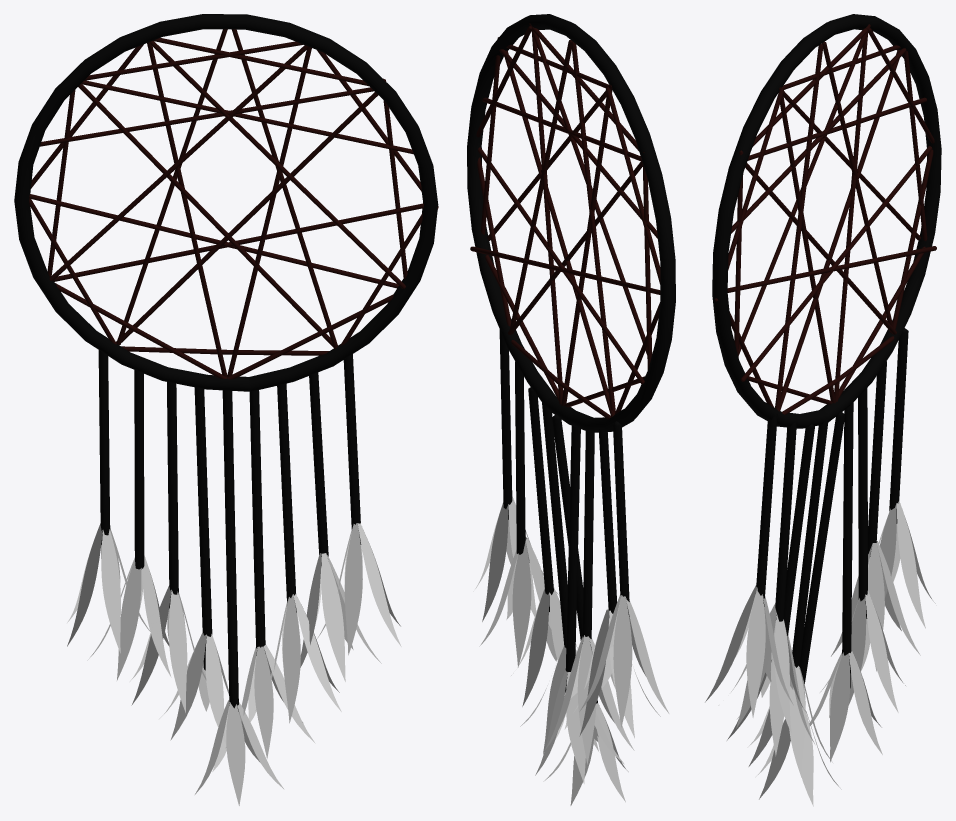
3 views of the same model, side by side, from view 1: azimuth 30°, elevation 25°; view 2: azimuth 150°, elevation 25°; view 3: azimuth 270°, elevation 25° (orthographic).
Visible parts, largest first — view 1: brush_Icing_g1_b0, brush_Petal_g1_b0; view 2: brush_Icing_g1_b0, brush_Petal_g1_b0; view 3: brush_Icing_g1_b0, brush_Petal_g1_b0.
Part boxes in pixels (x1,y1,x2,y2): brush_Icing_g1_b0: (14,14,438,711); brush_Petal_g1_b0: (67,523,401,805); brush_Icing_g1_b0: (467,14,675,703); brush_Petal_g1_b0: (473,496,669,805); brush_Icing_g1_b0: (712,14,941,688); brush_Petal_g1_b0: (705,501,935,806).
Size of the model in its own units: 3.35 by 7.82 by 2.2.
